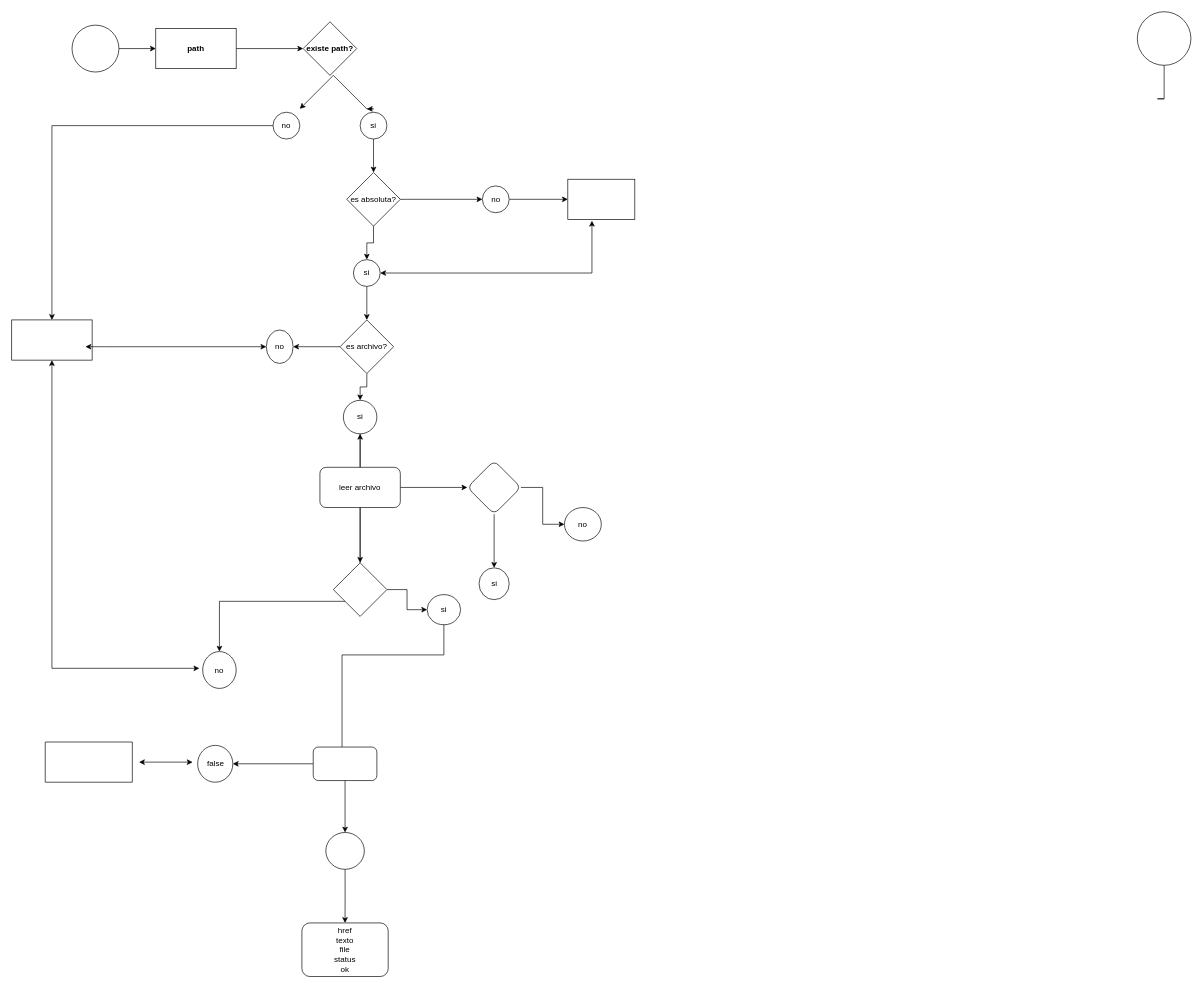
Some shapes in this 1203 by 988 pixel diagram are drawn without their labels. Here are the shapes that lost their labels. From the top down, the centre of each, then its label:
At [95,48]: "inicio".
At [1164,38]: "md link".
At [601,199]: "volverla absoluta".
At [51,339]: "error".
At [494,487]: "tiene links ?".
At [360,589]: "es .md?".
At [88,761]: "href= url texto de dentro del link ruta del archivo".
At [345,763]: "validate".
At [344,850]: "true".
